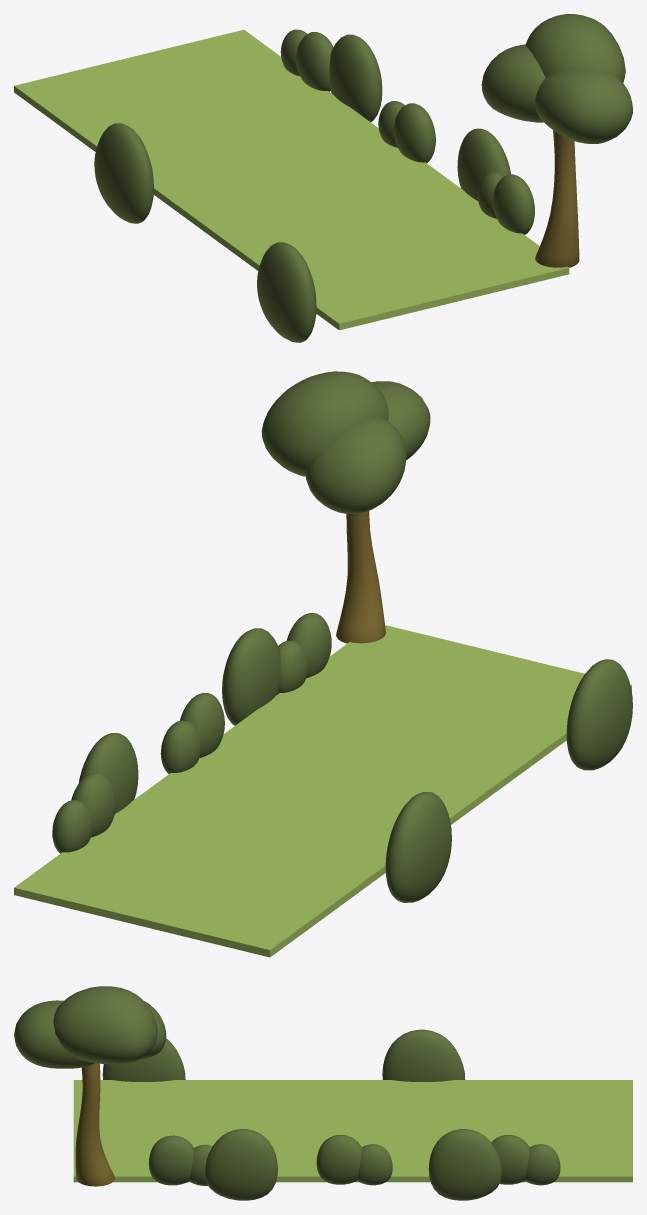
File: WindMillBG.fbx
3 views of the same model, one above another, from view 1: azimuth 30°, elevation 25°; view 2: azimuth 150°, elevation 25°; view 3: azimuth 270°, elevation 25° (orthographic). The views are drawn at different scales.
Parts seen in each view (by area): view 1: pCube1, pCube12, pCube14, pCube9, pCube11, pCylinder2, pCube13, pCube6, pCube7, pCube16, pCube5, pCube8 (+3 smaller); view 2: pCube1, pCube14, pCube13, pCube11, pCube9, pCylinder2, pCube7, pCube6, pCube12, pCube8, pCube16, pCube5 (+3 smaller); view 3: pCube1, pCube14, pCube6, pCube7, pCube9, pCylinder2, pCube12, pCube11, pCube16, pCube5, pCube8, pCube17 (+3 smaller).
Part boxes in pixels (<box>): pCube1: <box>14,29,569,330</box>; pCube12: <box>535,70,632,143</box>; pCube14: <box>525,14,625,82</box>; pCube9: <box>94,123,153,223</box>; pCube11: <box>257,242,316,342</box>; pCylinder2: <box>535,130,579,267</box>; pCube13: <box>481,44,545,122</box>; pCube6: <box>329,34,382,122</box>; pCube7: <box>457,128,510,200</box>; pCube16: <box>393,103,435,163</box>; pCube5: <box>492,174,534,234</box>; pCube8: <box>296,32,333,91</box>; pCube1: <box>14,625,631,957</box>; pCube14: <box>261,371,388,476</box>; pCube13: <box>305,418,406,513</box>; pCube11: <box>566,659,632,770</box>; pCube9: <box>385,792,451,902</box>; pCylinder2: <box>336,511,385,643</box>; pCube7: <box>222,628,280,725</box>; pCube6: <box>79,733,138,813</box>; pCube12: <box>372,381,430,460</box>; pCube8: <box>71,772,116,837</box>; pCube16: <box>180,692,224,757</box>; pCube5: <box>286,613,331,677</box>; pCube1: <box>73,1080,632,1182</box>; pCube14: <box>53,986,157,1064</box>; pCube6: <box>428,1129,501,1200</box>; pCube7: <box>205,1129,277,1200</box>; pCube9: <box>382,1029,465,1081</box>; pCylinder2: <box>75,1063,114,1186</box>; pCube12: <box>14,1000,95,1068</box>; pCube11: <box>102,1038,185,1081</box>; pCube16: <box>316,1134,361,1184</box>; pCube5: <box>148,1135,194,1185</box>; pCube8: <box>491,1134,529,1184</box>; pCube17: <box>525,1144,560,1185</box>.
Size of the model in its own units: 0.2331 by 0.1816 by 0.4427.
